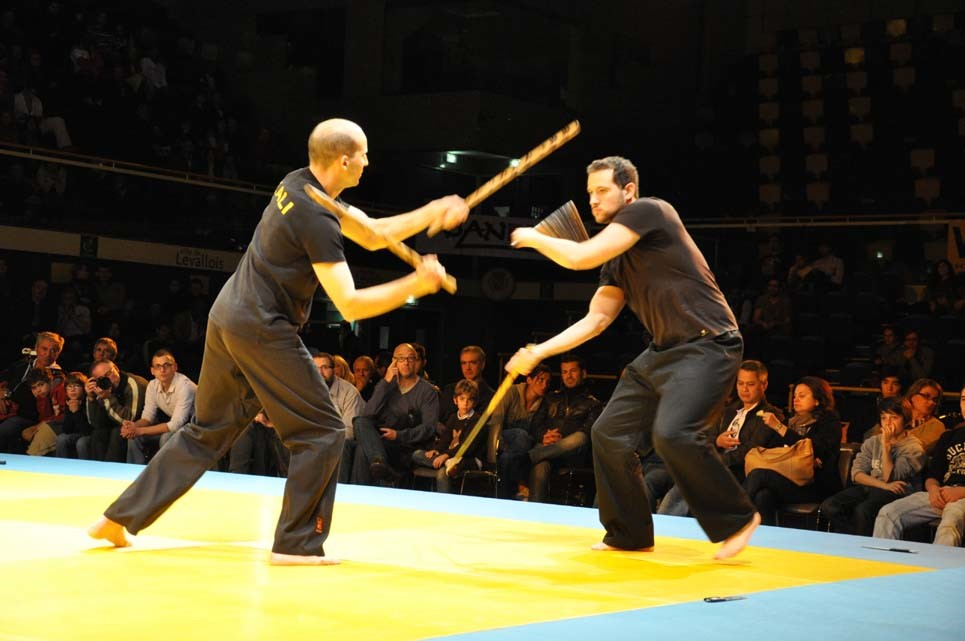baston_e: (437, 120, 575, 237), (314, 185, 449, 295), (455, 350, 535, 451)
baston_v: (299, 179, 321, 203), (442, 277, 465, 298), (424, 219, 443, 239), (569, 112, 582, 136), (451, 446, 464, 460), (525, 338, 535, 353)
